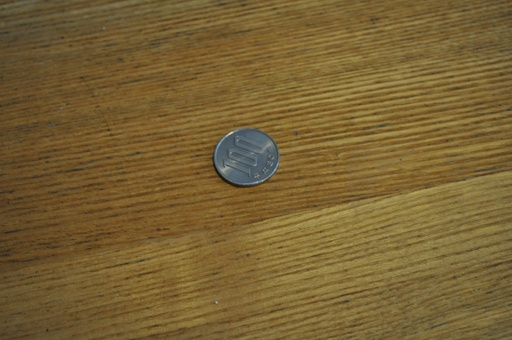100yen: (214, 129, 278, 185)
